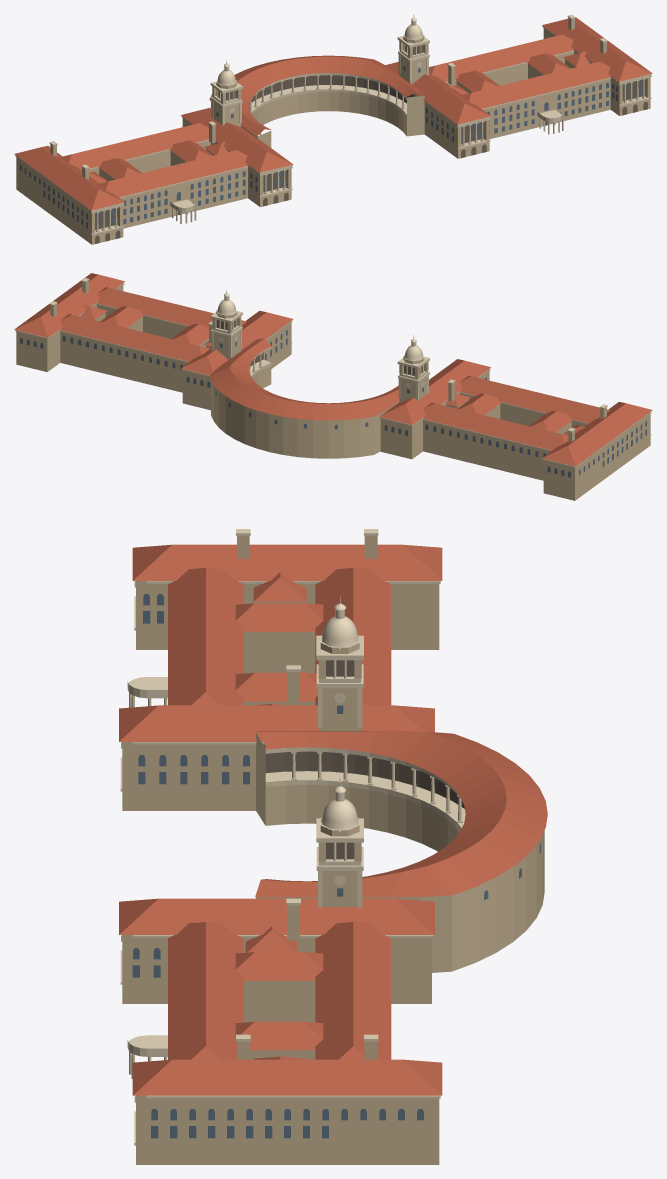
Rendered from pretoria-union-buildings.glb.
3 renders of one model, top to bottom at view 1: azimuth 30°, elevation 25°; view 2: azimuth 150°, elevation 25°; view 3: azimuth 270°, elevation 25°, orthographic. The views are drawn at different scales.
Parts seen in each view (by area): view 1: Union Buildings; view 2: Union Buildings; view 3: Union Buildings.
Boxes of the visible parts, bbox=[...] form: Union Buildings: bbox=[14, 14, 652, 244]; Union Buildings: bbox=[14, 273, 652, 500]; Union Buildings: bbox=[119, 529, 547, 1164].
Size of the model in its own units: 284 by 49.5 by 93.9.
